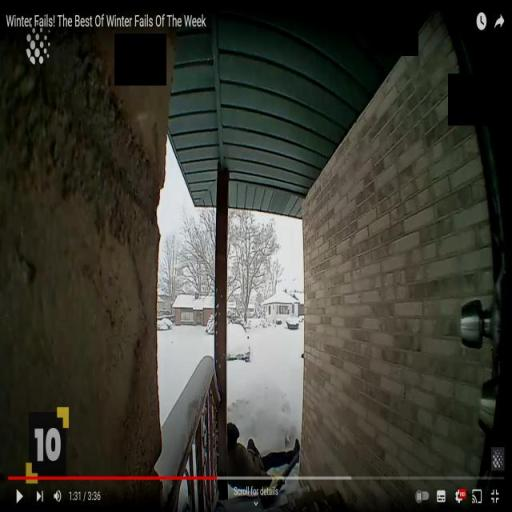Fall: (225, 417, 304, 496)
